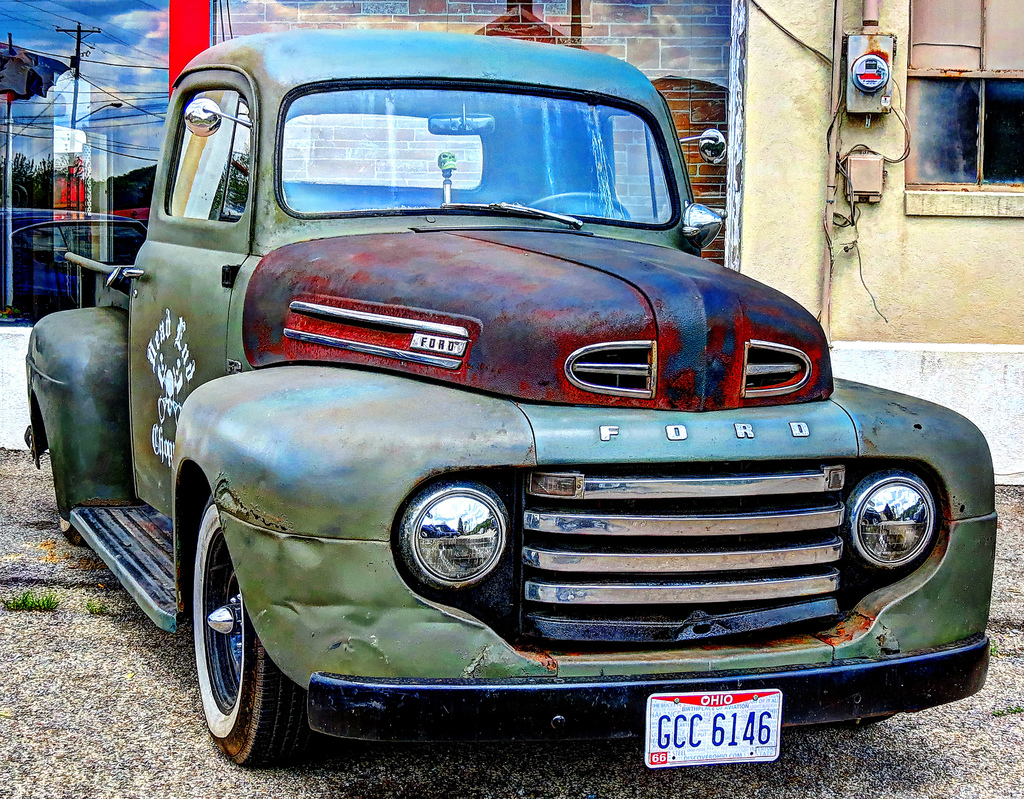car: (15, 1, 1019, 788)
